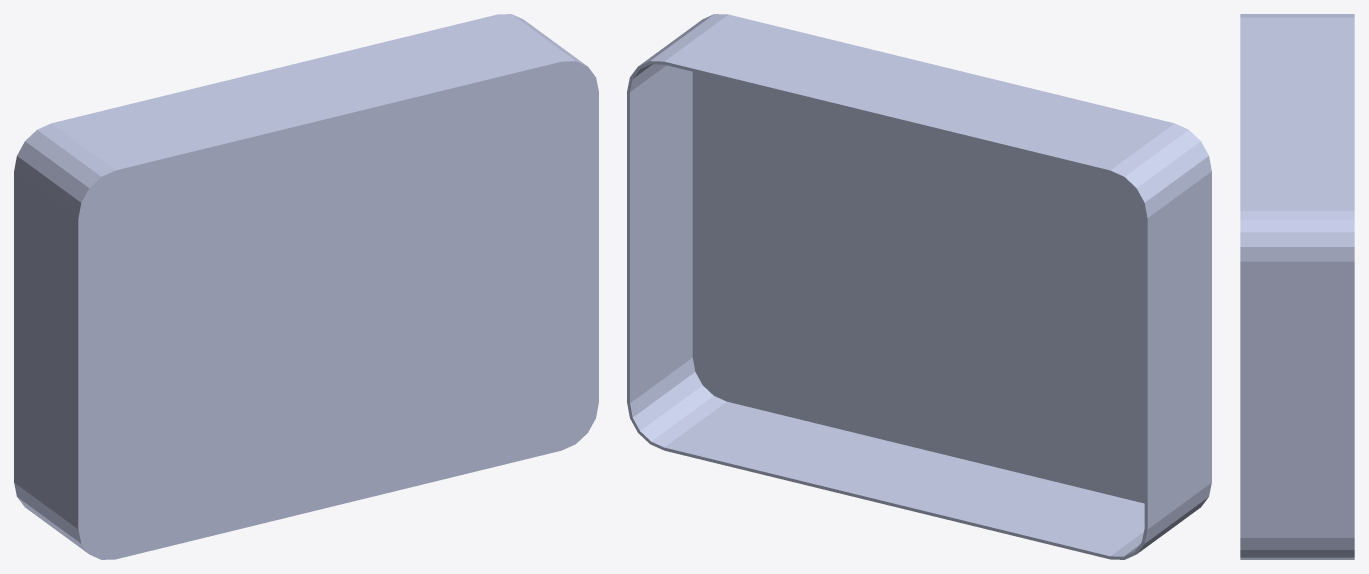
Rendered from tank_Link_mesh.obj.
3 renders of one model, left to right at view 1: azimuth 30°, elevation 25°; view 2: azimuth 150°, elevation 25°; view 3: azimuth 270°, elevation 25°, orthographic. The views are drawn at different scales.
Bounding box in the file's own units: 0.7 × 0.5 × 0.15.
